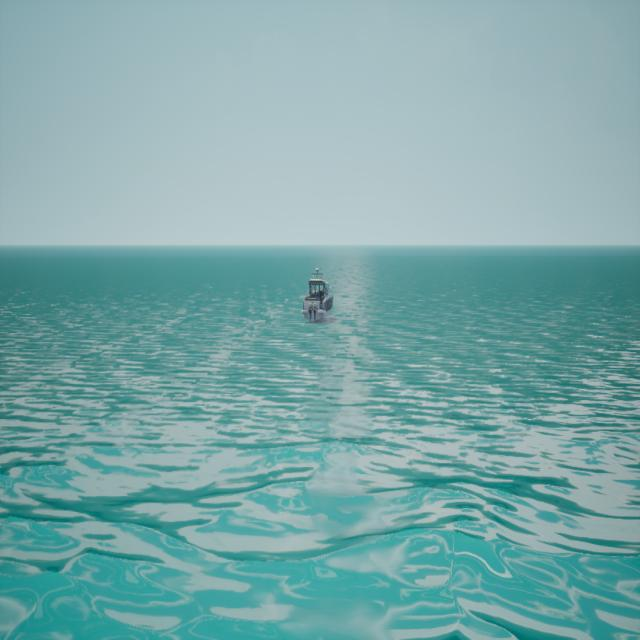ship: (304, 263, 334, 320)
